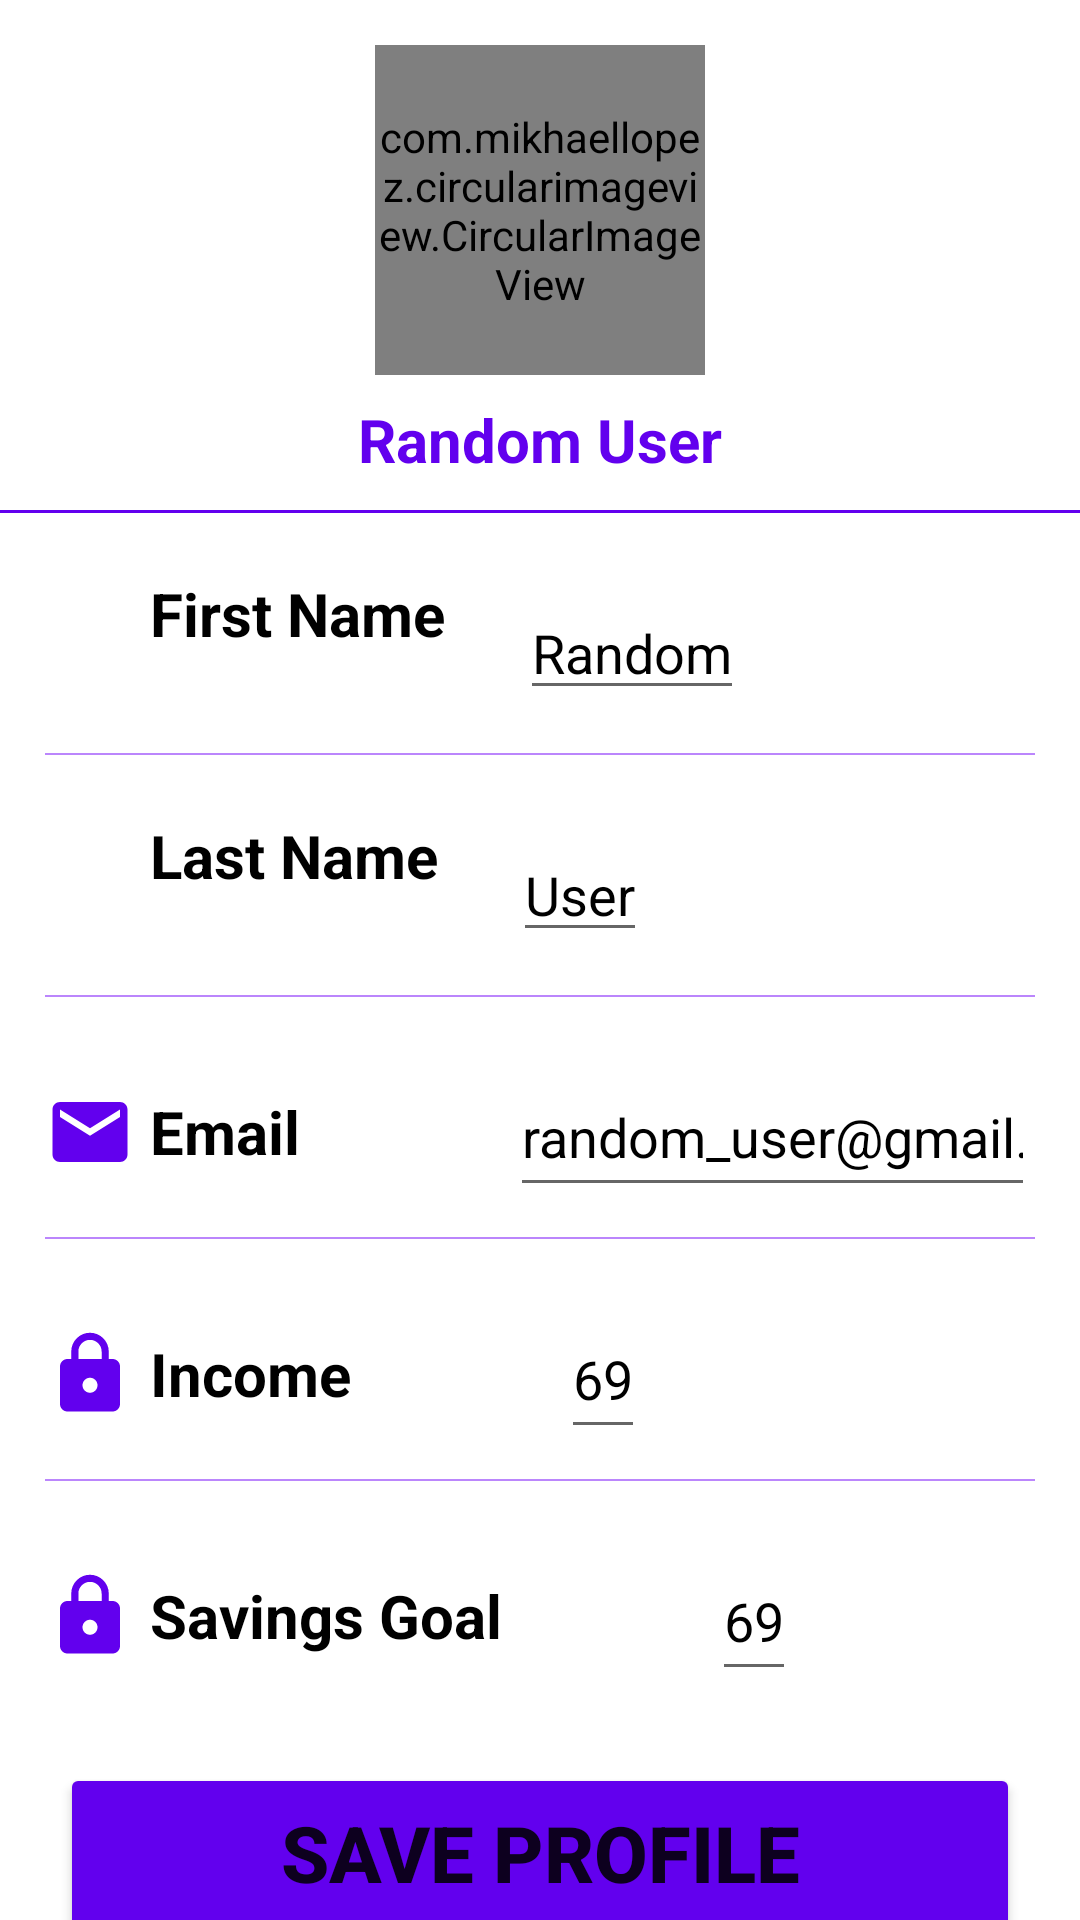

Locate icon controls on the screen. Image size 1080×1920, boxes as (x1,y1,x2,y2).
lock: (60,1332,120,1412), (60,1574,120,1654)
